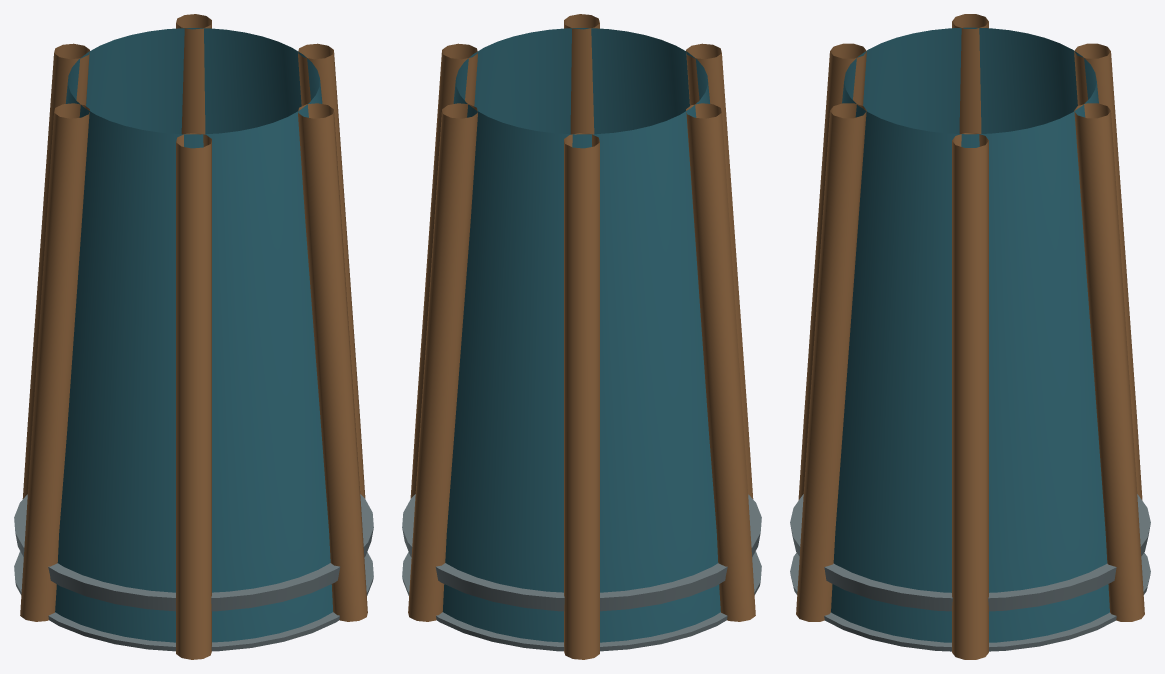
The model's file is wreck_thalassa_1.glb.
3 renders of one model, left to right at view 1: azimuth 30°, elevation 25°; view 2: azimuth 150°, elevation 25°; view 3: azimuth 270°, elevation 25°, orthographic.
Visible parts, largest first — view 1: wreck_thalassa_1; view 2: wreck_thalassa_1; view 3: wreck_thalassa_1.
Part boxes in pixels (<box>): wreck_thalassa_1: <box>14,14,373,659</box>; wreck_thalassa_1: <box>402,14,761,659</box>; wreck_thalassa_1: <box>790,14,1150,659</box>.
Size of the model in its own units: 3 by 4.15 by 2.74.
